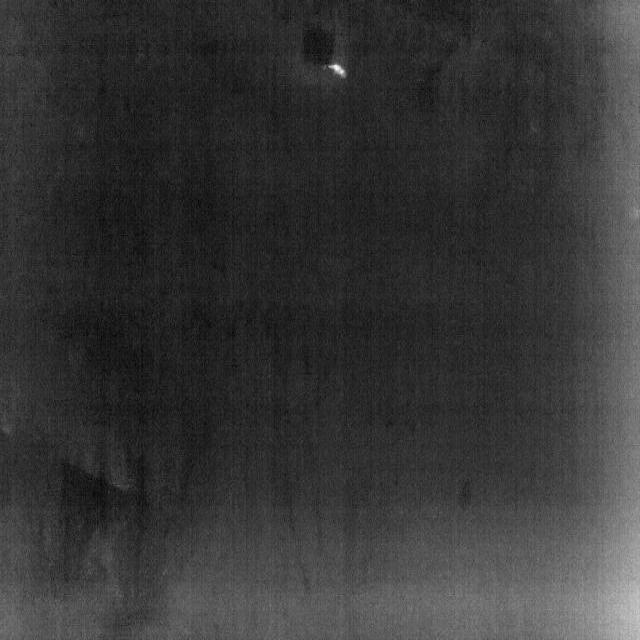deer: (327, 62, 348, 80)
